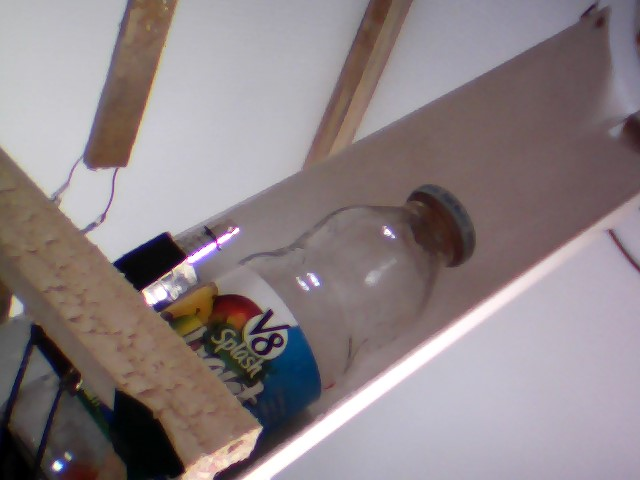vidrio: (170, 176, 491, 426)
